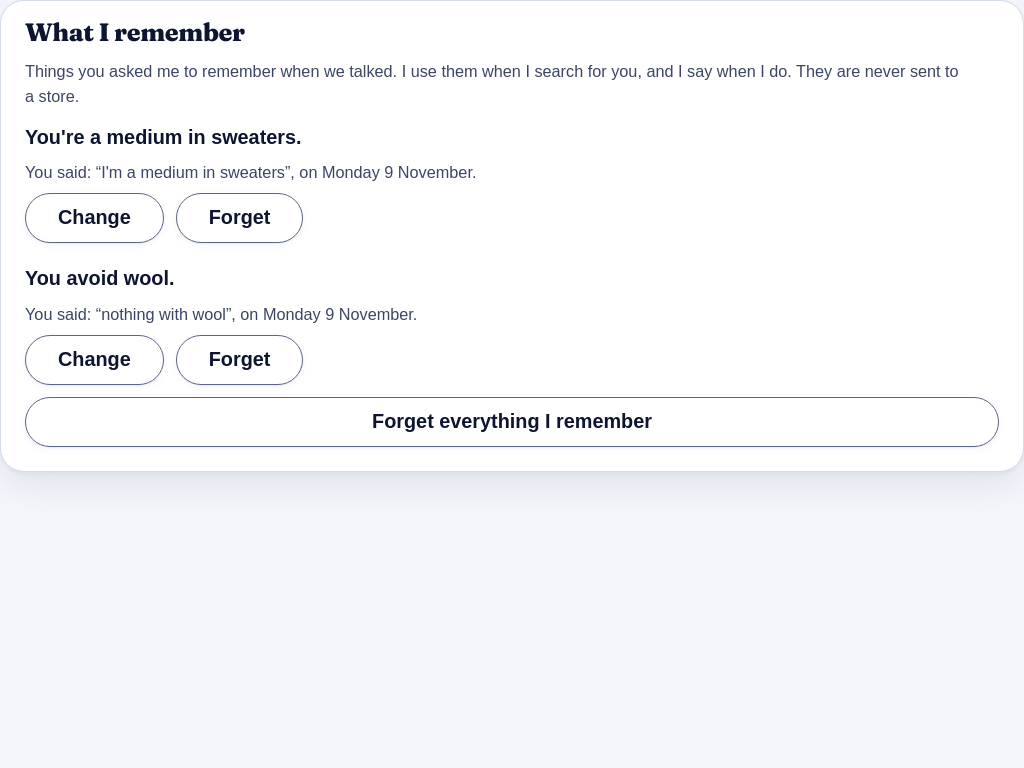
Test: What I remember › change: focus goes to the field; a bad value is marked and explained; a good one is read from focus
Click the button "Change" below "You're a medium in sweaters.": (94, 218) x1=25 y1=194 x2=164 y2=243
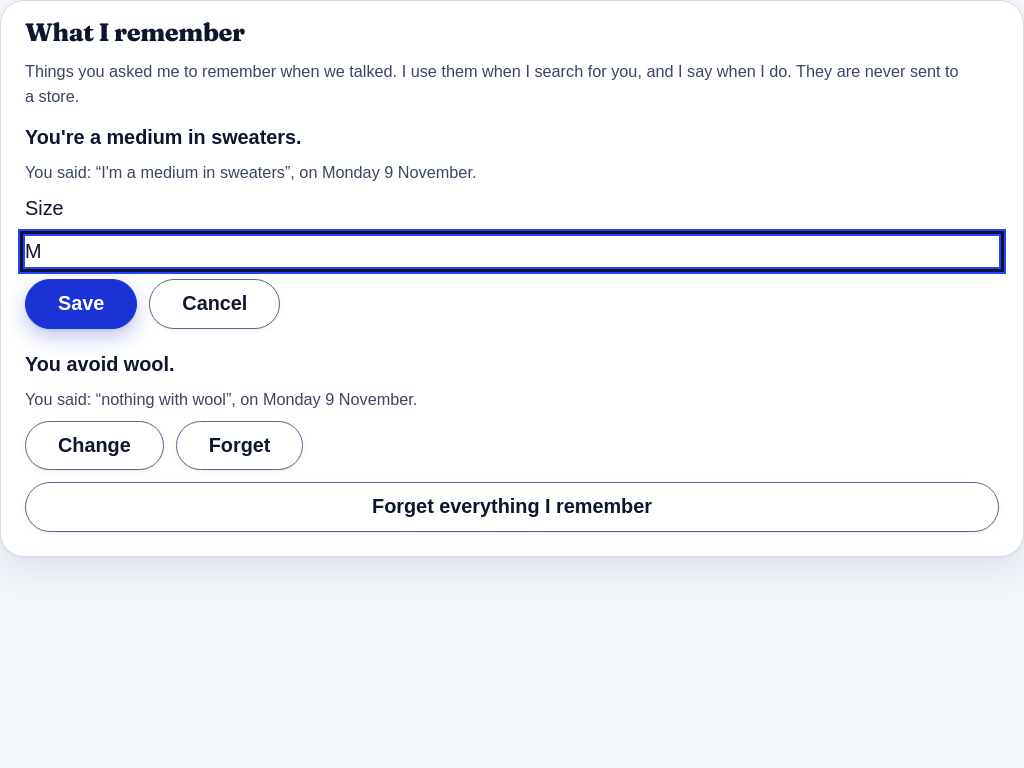
Replace the text in the field labelled "Size" with "Q": (512, 252) x1=25 y1=236 x2=999 y2=267
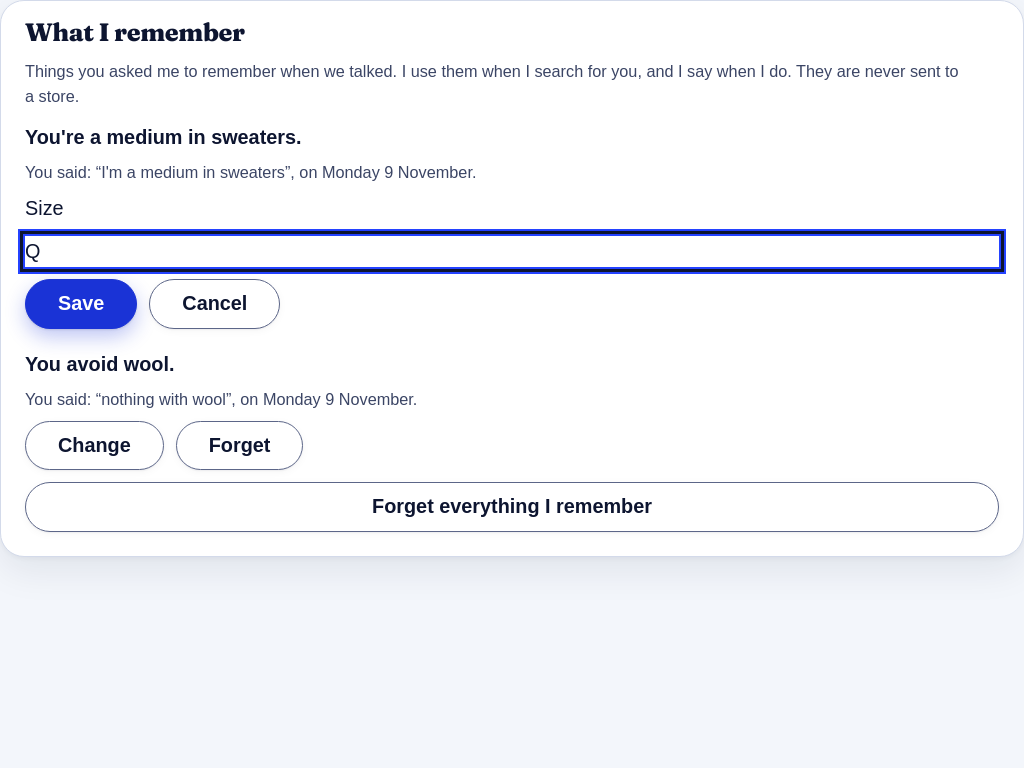
Click the button "Save": (81, 304) x1=25 y1=279 x2=137 y2=329
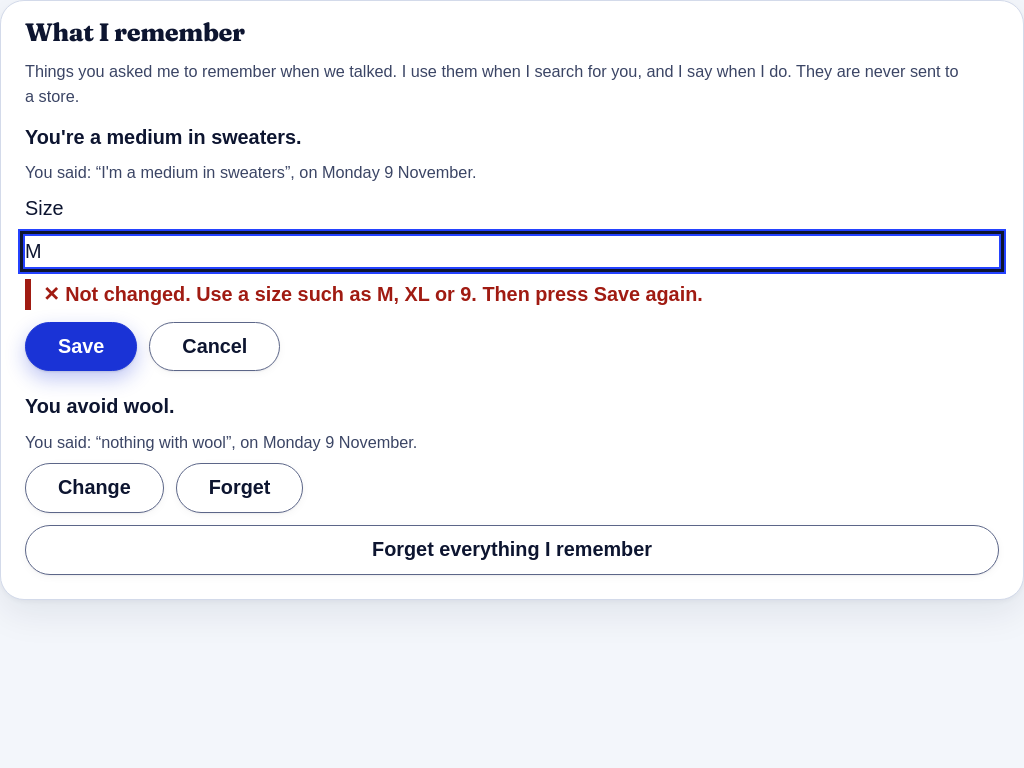
expect the field labelled "Size" is marked as invalid: met
Replace the text in the field labelled "Size" with "L": (512, 252) x1=25 y1=236 x2=999 y2=267
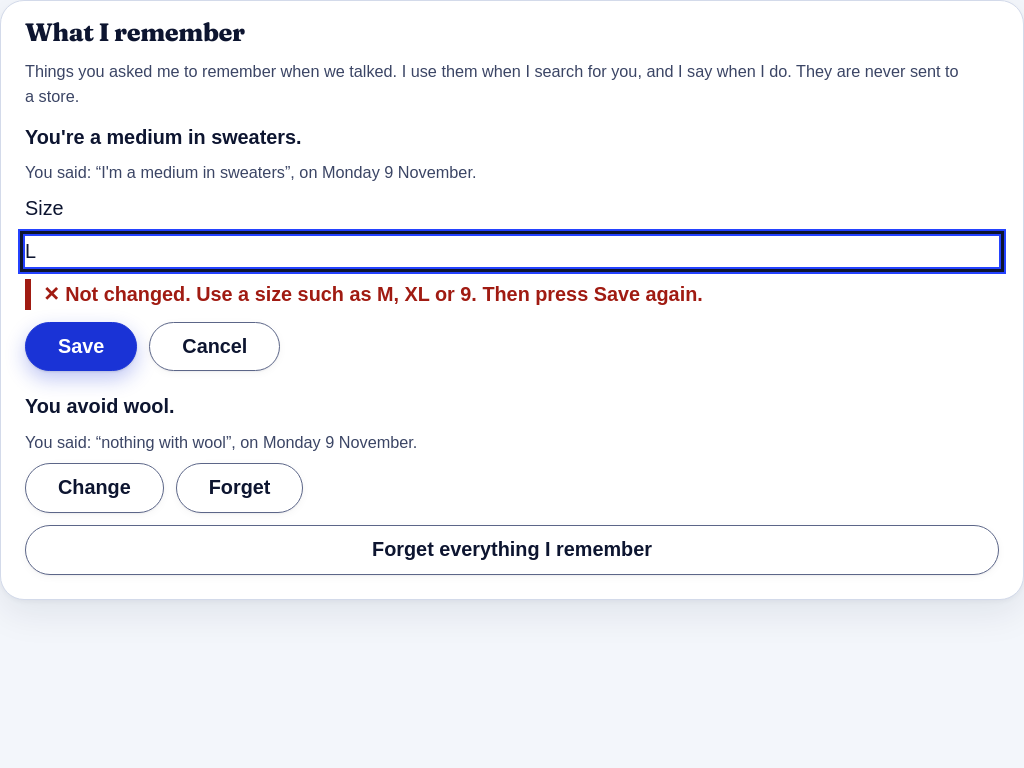
Click the button "Save": (81, 347) x1=25 y1=322 x2=137 y2=372
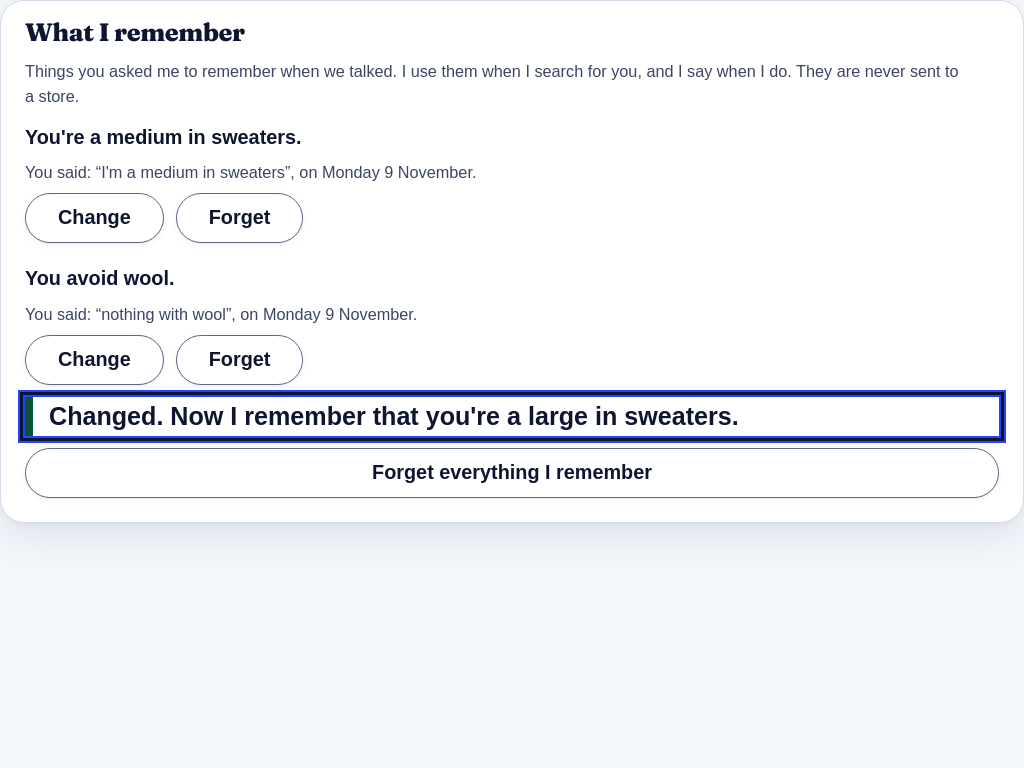
expect the text "Changed. Now I remember that you're a large in sweaters." is shown: met, box x1=25 y1=397 x2=999 y2=436
